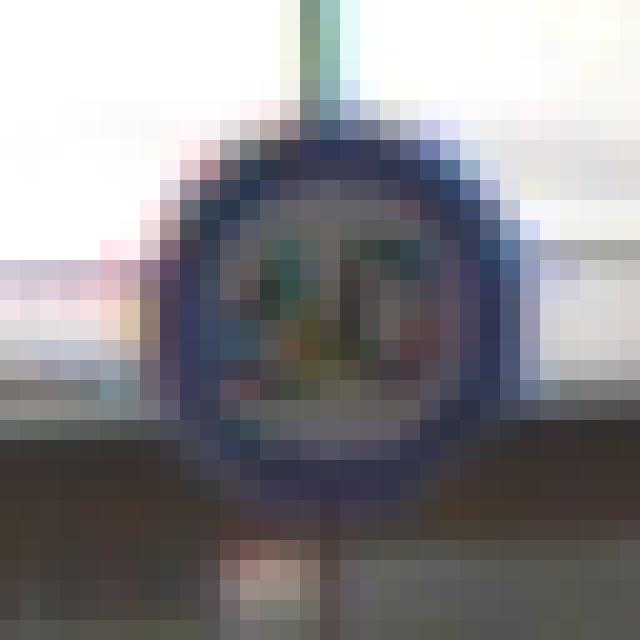SPEED-LIMIT-60: (144, 100, 529, 519)
